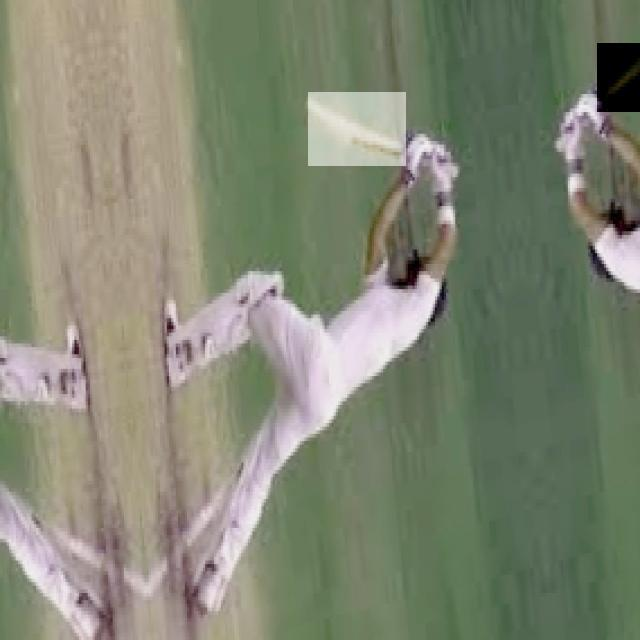bat: (310, 93, 407, 169)
